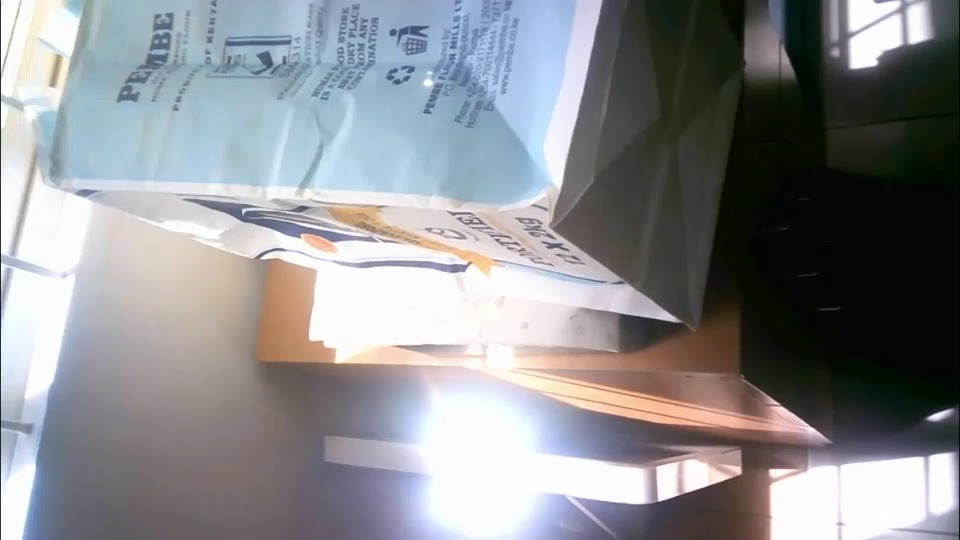wheat_flour_blue_label: (40, 2, 746, 327)
